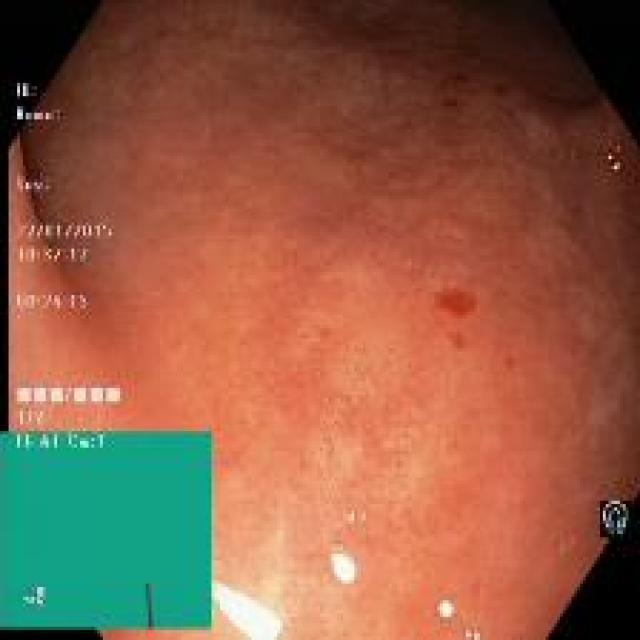ulcerative-colitis-grade-1: (10, 3, 640, 639)
